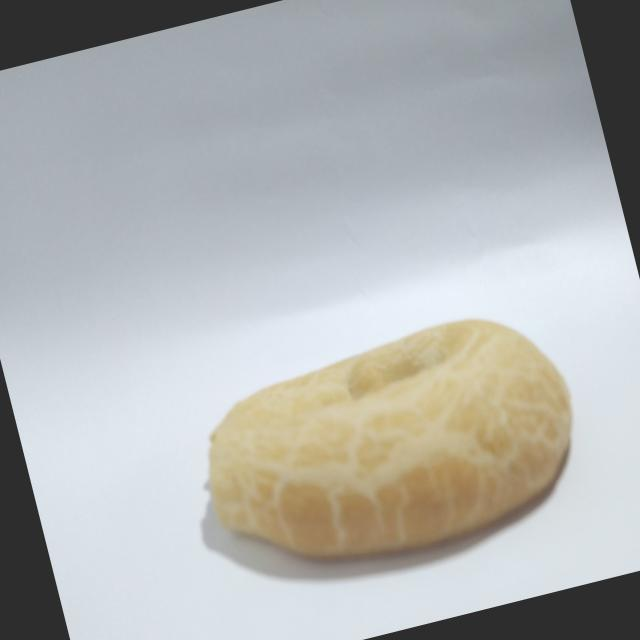Chipa: (161, 275, 605, 613)
